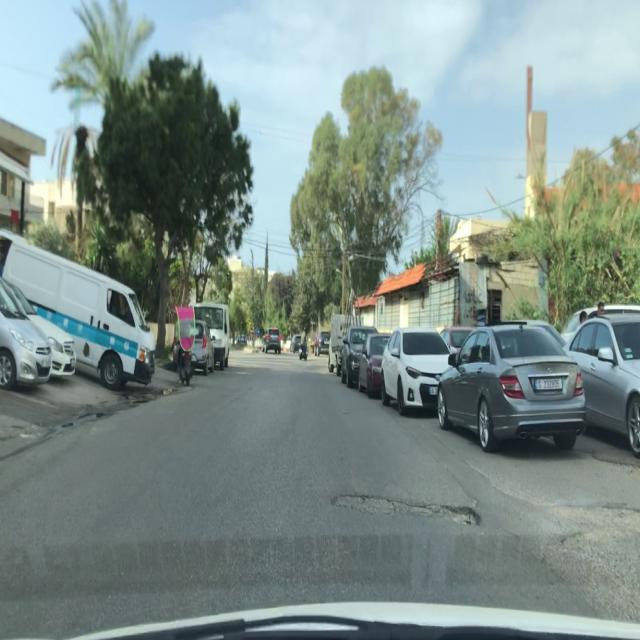Pothole: (329, 489, 484, 533)
